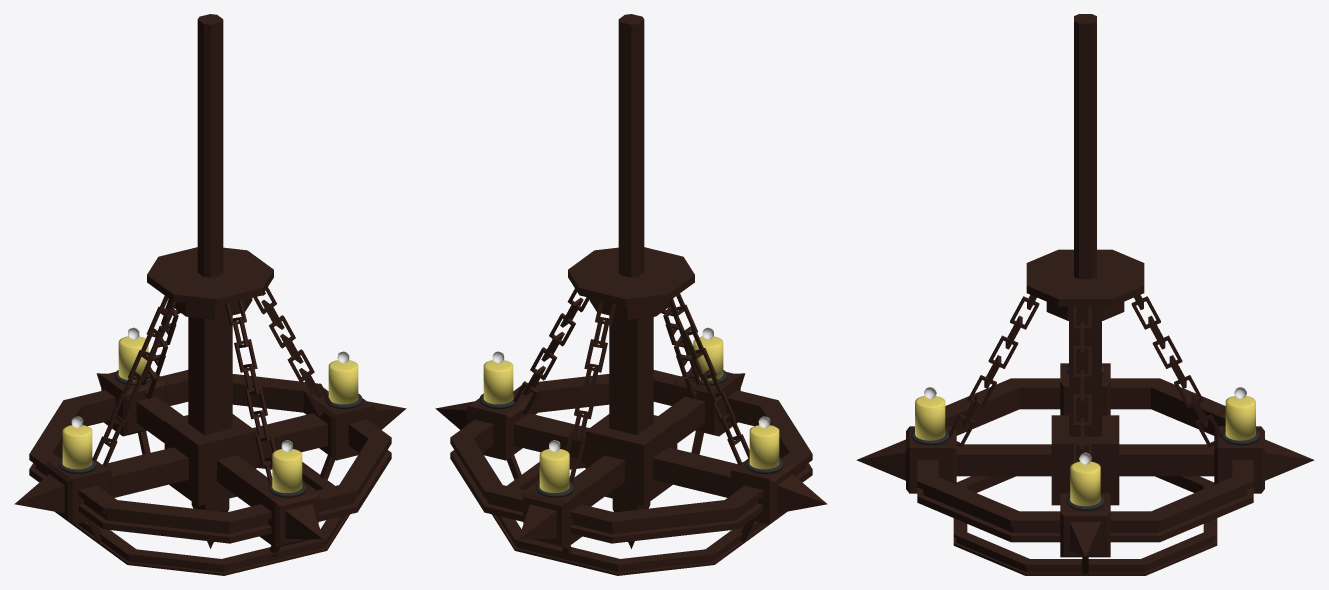
The model's file is CHANDELIER.glb.
3 renders of one model, left to right at view 1: azimuth 30°, elevation 25°; view 2: azimuth 150°, elevation 25°; view 3: azimuth 270°, elevation 25°, orthographic.
Visible parts, largest first — view 1: Cube; view 2: Cube; view 3: Cube.
Boxes of the visible parts, x1,y1,x2,y2 form: Cube: (14, 14, 406, 575); Cube: (435, 14, 827, 575); Cube: (856, 14, 1314, 575).
Bounding box in the file's own units: 1.36 × 1.76 × 1.36.
